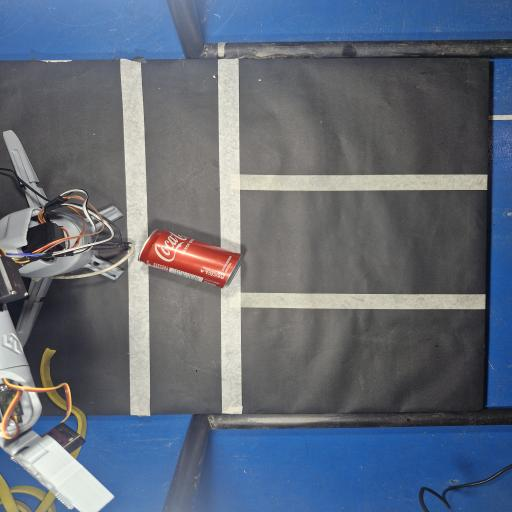lata: (138, 230, 243, 288)
